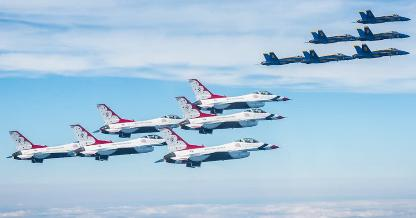F14: (154, 125, 282, 166), (174, 95, 288, 133), (187, 77, 293, 113), (66, 123, 166, 160), (91, 103, 183, 137), (6, 129, 78, 162)
F15: (344, 43, 410, 58), (294, 48, 356, 63), (350, 8, 410, 23), (354, 25, 410, 40), (302, 29, 356, 43), (255, 50, 305, 65)
